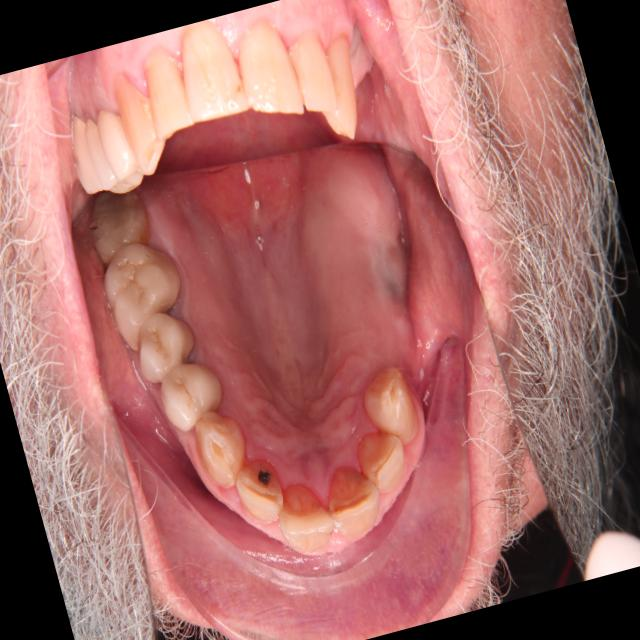tooth: (87, 222, 206, 352), (297, 434, 397, 561), (176, 383, 271, 507), (143, 340, 245, 445), (255, 455, 346, 571), (74, 176, 167, 276), (352, 353, 434, 465), (124, 296, 212, 394), (221, 438, 295, 537), (347, 420, 423, 500)
